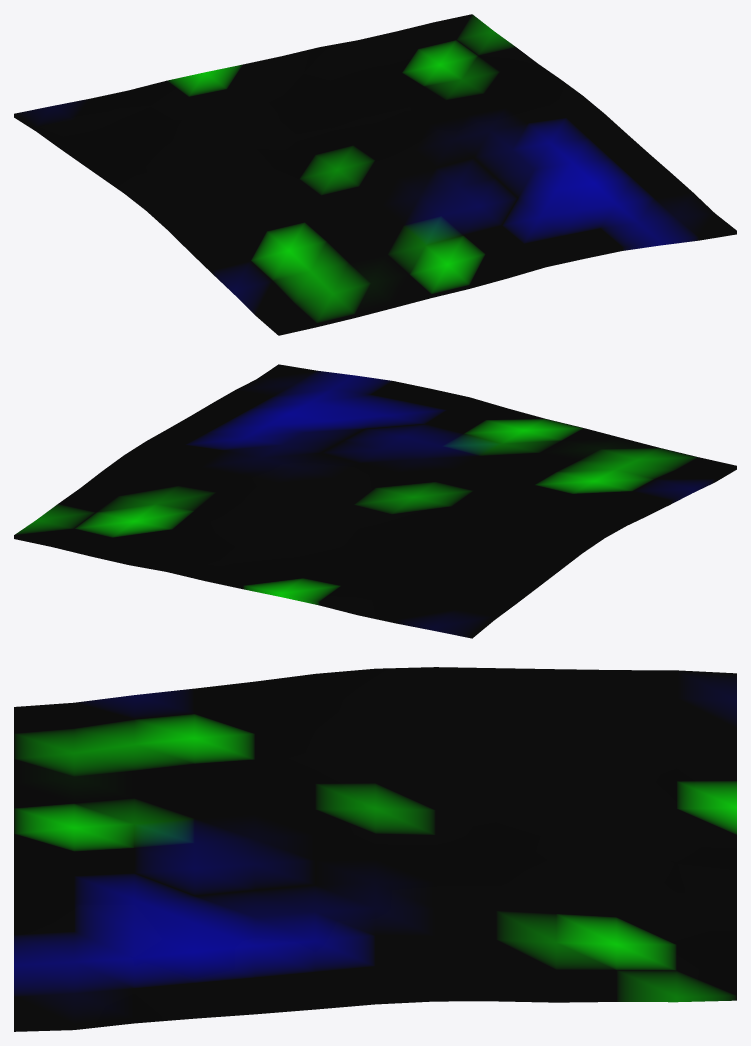
Rendered from coast_9_2.glb.
The picture shows the model from 3 angles, top to bottom: view 1: azimuth 30°, elevation 25°; view 2: azimuth 150°, elevation 25°; view 3: azimuth 270°, elevation 25°; orthographic projection. The views are drawn at different scales.
Parts seen in each view (by area): view 1: terrain; view 2: terrain; view 3: terrain.
Boxes of the visible parts, <box> form: terrain: <box>14,14,736,335</box>; terrain: <box>14,364,736,638</box>; terrain: <box>14,667,736,1031</box>.
Size of the model in its own units: 192 by 17.35 by 192.
